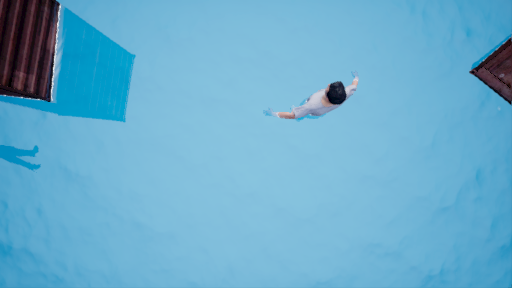person: (269, 65, 356, 128)
